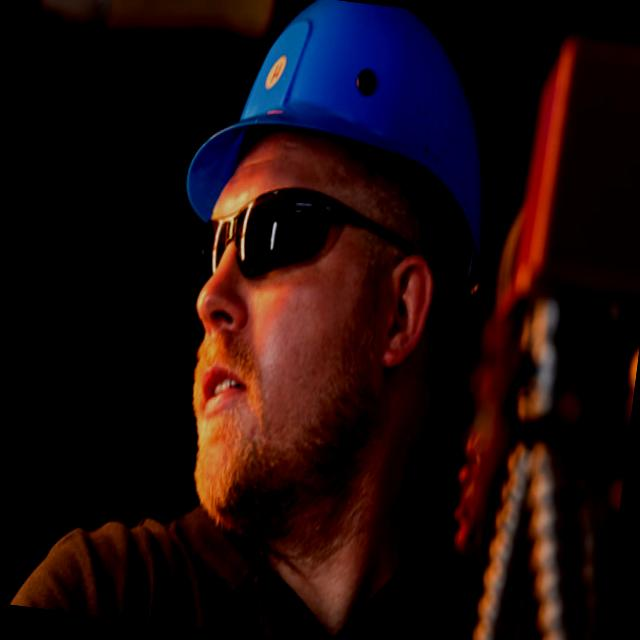goggles: (208, 178, 344, 284)
helmet: (185, 0, 505, 248)
